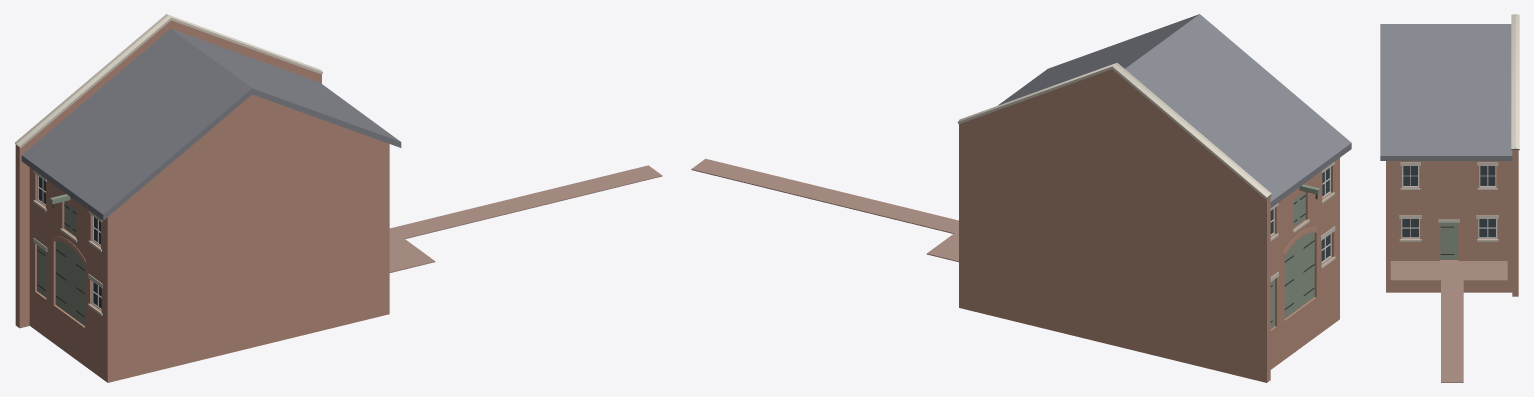
The model's file is house_1628_prairie_coach_house__as_standing_1904.glb.
3 renders of one model, left to right at view 1: azimuth 30°, elevation 25°; view 2: azimuth 150°, elevation 25°; view 3: azimuth 270°, elevation 25°, orthographic. The views are drawn at different scales.
Visible parts, largest first — view 1: house_1628_prairie_coach_house__as_standing_1904; view 2: house_1628_prairie_coach_house__as_standing_1904; view 3: house_1628_prairie_coach_house__as_standing_1904.
Part boxes in pixels (x1,y1,x2,y2): house_1628_prairie_coach_house__as_standing_1904: (15, 14, 662, 382); house_1628_prairie_coach_house__as_standing_1904: (691, 14, 1351, 382); house_1628_prairie_coach_house__as_standing_1904: (1380, 14, 1519, 382).
Bounding box in the file's own units: 29.99 × 13 × 7.36.
